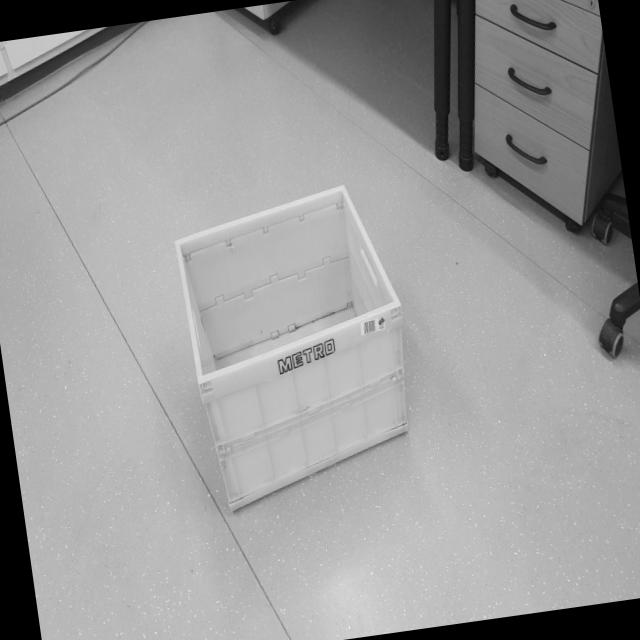box: (144, 145, 442, 546)
